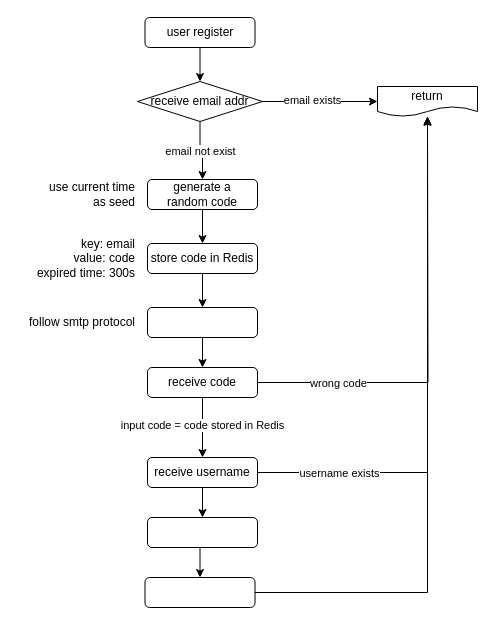
Some shapes in this 495 by 625 pixel diagram are drawn without their labels. Each missing label, with the centre of its shape:
generate identity: uuid: the point at 202,532
insert into DB: the point at 199,592
send code to email: the point at 202,322
